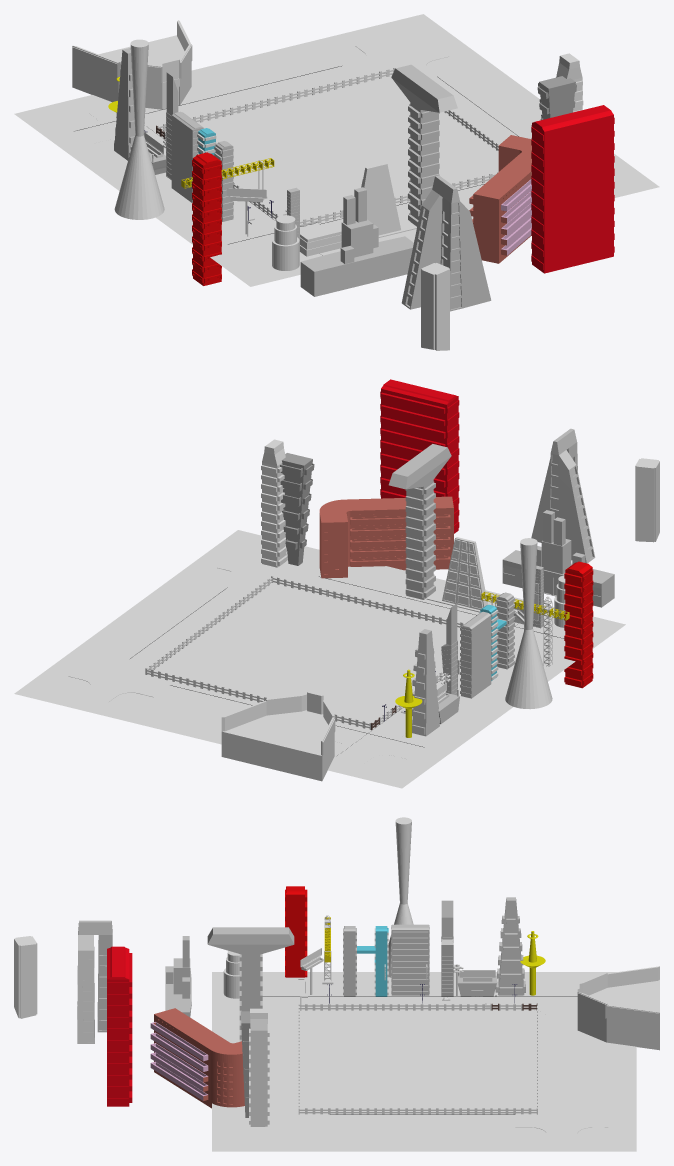
The model's file is citycorner.fbx.
3 views of the same model, one above another, from view 1: azimuth 30°, elevation 25°; view 2: azimuth 150°, elevation 25°; view 3: azimuth 270°, elevation 25° (orthographic). The views are drawn at different scales.
Visible parts, largest first — view 1: Plane.014, Cube.057, Cube.064, Cube.059, 930 Queens Plate V1.001, Cube.063, Cube.055, Cylinder.009, Cube.058, Areas:building.002, Plane.008, Cube.054 (+11 smaller); view 2: Plane.014, Cube.063, 930 Queens Plate V1.001, Cube.057, Cube.055, Cube.064, Cylinder.009, Cube.059, Cube.058, Cube.062, Cube.056, Cube.054 (+10 smaller); view 3: Plane.014, 930 Queens Plate V1.001, Cube.063, Cube.057, Cube.055, Cube.064, Cube.046, Cube.062, Plane.008, Cube.048, Areas:building.002, Cube.058 (+11 smaller).
Boxes of the visible parts, x1=… form: Plane.014: x1=14, y1=14, x2=659, y2=286; Cube.057: x1=531, y1=105, x2=614, y2=273; Cube.064: x1=401, y1=175, x2=491, y2=311; Cube.059: x1=300, y1=187, x2=413, y2=296; 930 Queens Plate V1.001: x1=469, y1=135, x2=531, y2=263; Cube.063: x1=72, y1=20, x2=192, y2=109; Cube.055: x1=391, y1=64, x2=457, y2=226; Cylinder.009: x1=114, y1=39, x2=164, y2=219; Cube.058: x1=192, y1=152, x2=221, y2=285; Areas:building.002: x1=421, y1=263, x2=449, y2=350; Plane.008: x1=342, y1=38, x2=449, y2=77; Cube.054: x1=361, y1=162, x2=416, y2=237; Plane.014: x1=14, y1=530, x2=625, y2=788; Cube.063: x1=221, y1=691, x2=335, y2=781; 930 Queens Plate V1.001: x1=319, y1=496, x2=453, y2=578; Cube.057: x1=380, y1=379, x2=459, y2=533; Cube.055: x1=388, y1=444, x2=451, y2=599; Cube.064: x1=531, y1=428, x2=595, y2=563; Cylinder.009: x1=505, y1=538, x2=552, y2=709; Cube.059: x1=502, y1=510, x2=614, y2=607; Cube.058: x1=564, y1=561, x2=593, y2=688; Cube.062: x1=261, y1=439, x2=287, y2=567; Cube.056: x1=280, y1=453, x2=314, y2=565; Cube.054: x1=426, y1=537, x2=487, y2=612; Plane.014: x1=212, y1=972, x2=636, y2=1151; 930 Queens Plate V1.001: x1=150, y1=1008, x2=244, y2=1108; Cube.063: x1=577, y1=966, x2=659, y2=1050; Cube.057: x1=107, y1=946, x2=132, y2=1106; Cube.055: x1=207, y1=927, x2=294, y2=1041; Cube.064: x1=77, y1=920, x2=112, y2=1043; Cube.046: x1=391, y1=924, x2=429, y2=995; Cube.062: x1=249, y1=1008, x2=269, y2=1126; Plane.008: x1=515, y1=1101, x2=608, y2=1140; Cube.048: x1=495, y1=897, x2=525, y2=995; Areas:building.002: x1=14, y1=936, x2=37, y2=1018; Cube.058: x1=285, y1=886, x2=307, y2=977.
Bounding box in the file's own units: 14552 × 6211 × 20830.
